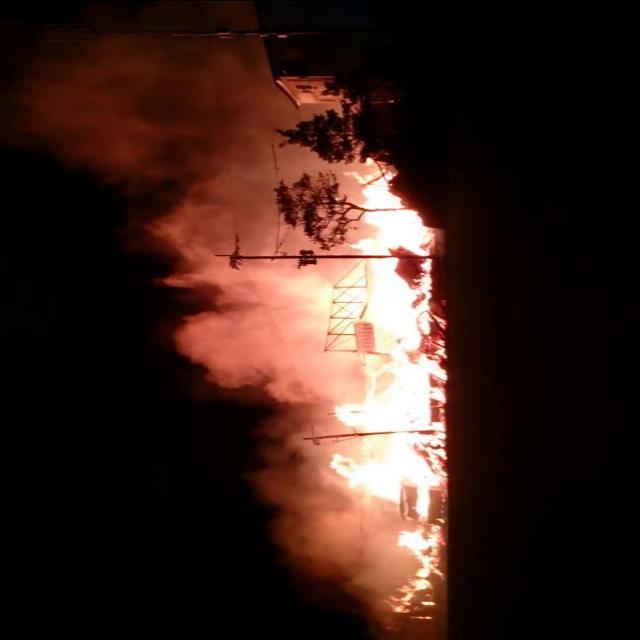Fire: (334, 150, 439, 621)
